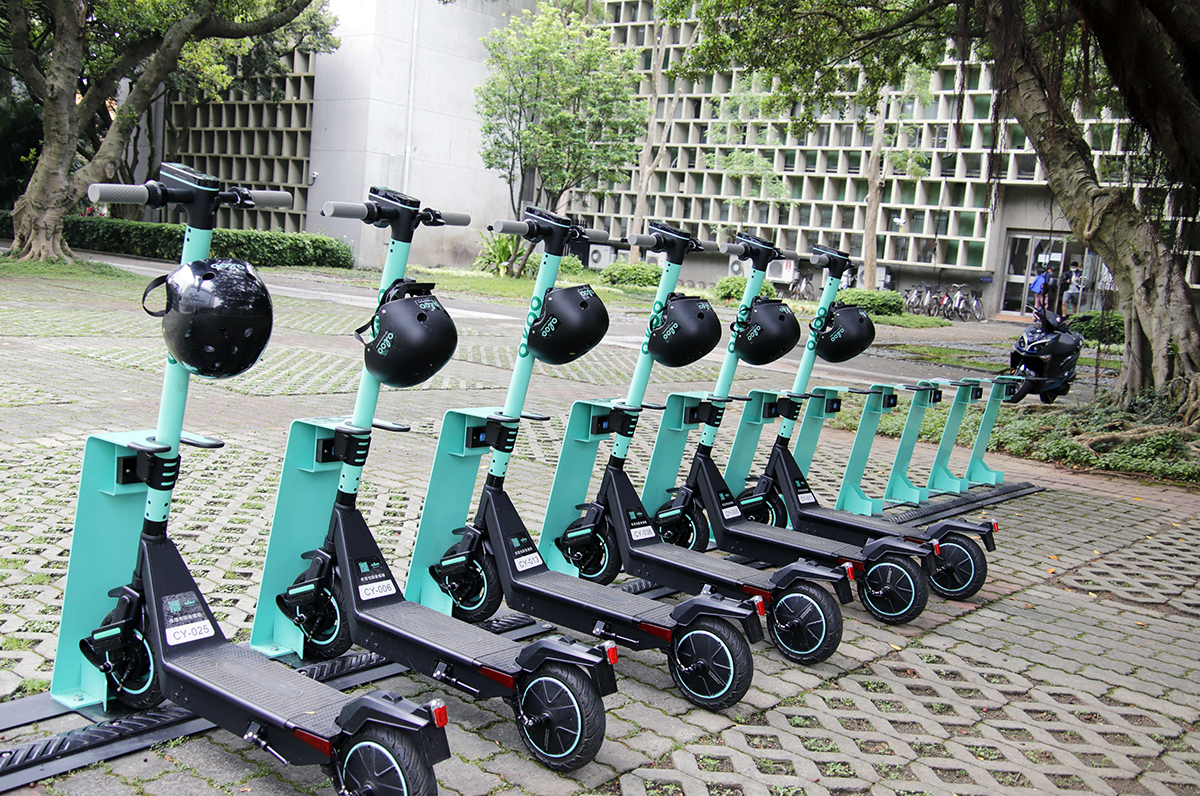scooter: (78, 158, 456, 796), (282, 183, 621, 779), (428, 205, 759, 717), (561, 224, 853, 670), (652, 228, 943, 629), (731, 243, 999, 602)
